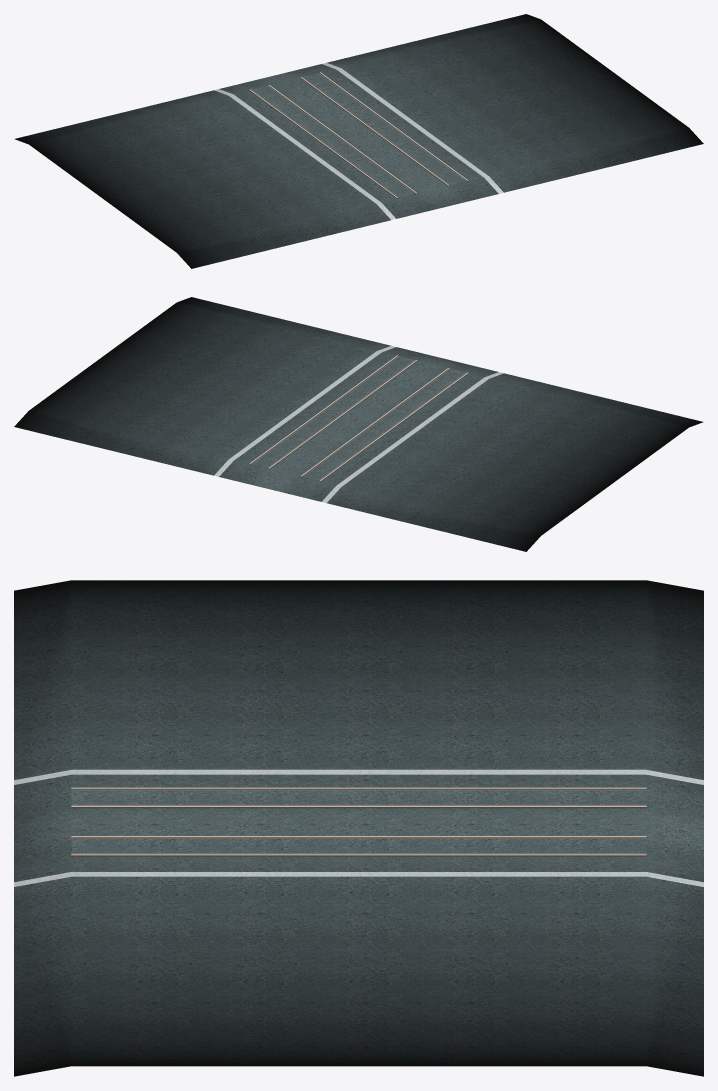
File: 2RAILROMEN03.glb
3 renders of one model, top to bottom at view 1: azimuth 30°, elevation 25°; view 2: azimuth 150°, elevation 25°; view 3: azimuth 270°, elevation 25°, orthographic. The views are drawn at different scales.
Visible parts, largest first — view 1: obj5; view 2: obj5; view 3: obj5.
Part boxes in pixels (x1,y1,x2,y2): obj5: (14,14,703,268); obj5: (14,297,703,551); obj5: (14,580,703,1076).
Size of the model in its own units: 100 by 1.18 by 60.
3 materials, 3 textured.
